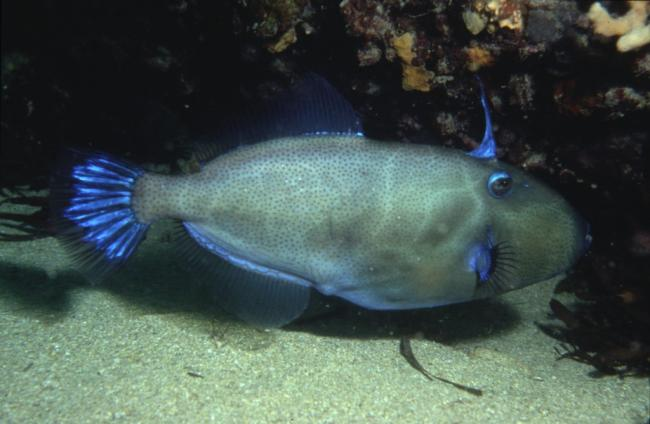fish: (64, 72, 582, 328)
